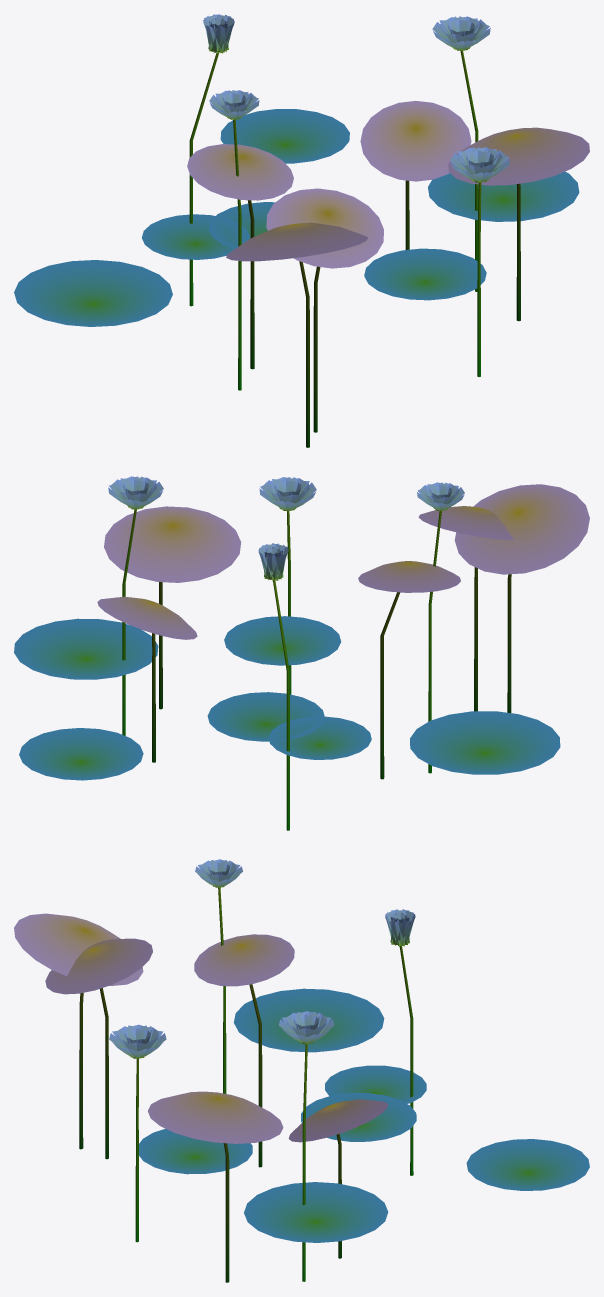
The model's file is lotus_cluster.glb.
3 views of the same model, one above another, from view 1: azimuth 30°, elevation 25°; view 2: azimuth 150°, elevation 25°; view 3: azimuth 270°, elevation 25° (orthographic). The views are drawn at different scales.
Visible parts, largest first — view 1: lotus_cluster_leaves, lotus_cluster_stems; view 2: lotus_cluster_leaves, lotus_cluster_stems; view 3: lotus_cluster_leaves, lotus_cluster_stems.
Boxes of the visible parts, x1,y1,x2,y2 form: lotus_cluster_leaves: (14,14,589,326); lotus_cluster_stems: (189,50,520,447); lotus_cluster_leaves: (14,476,589,780); lotus_cluster_stems: (122,509,511,830); lotus_cluster_leaves: (14,859,589,1242); lotus_cluster_stems: (79,887,413,1282).
Bounding box in the file's own units: 2.27 × 1.17 × 2.17.
